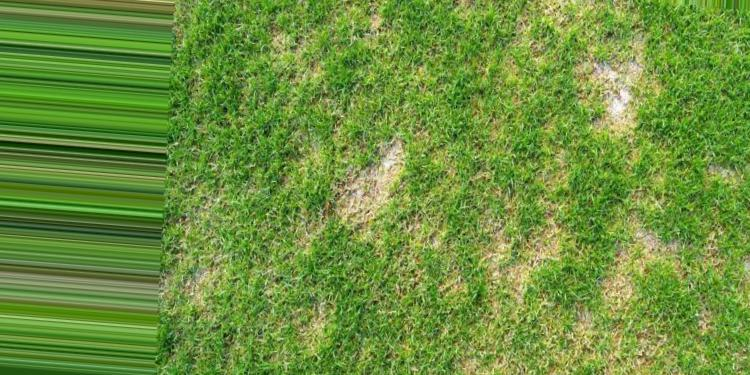patch: (346, 153, 386, 221), (605, 67, 637, 131)
